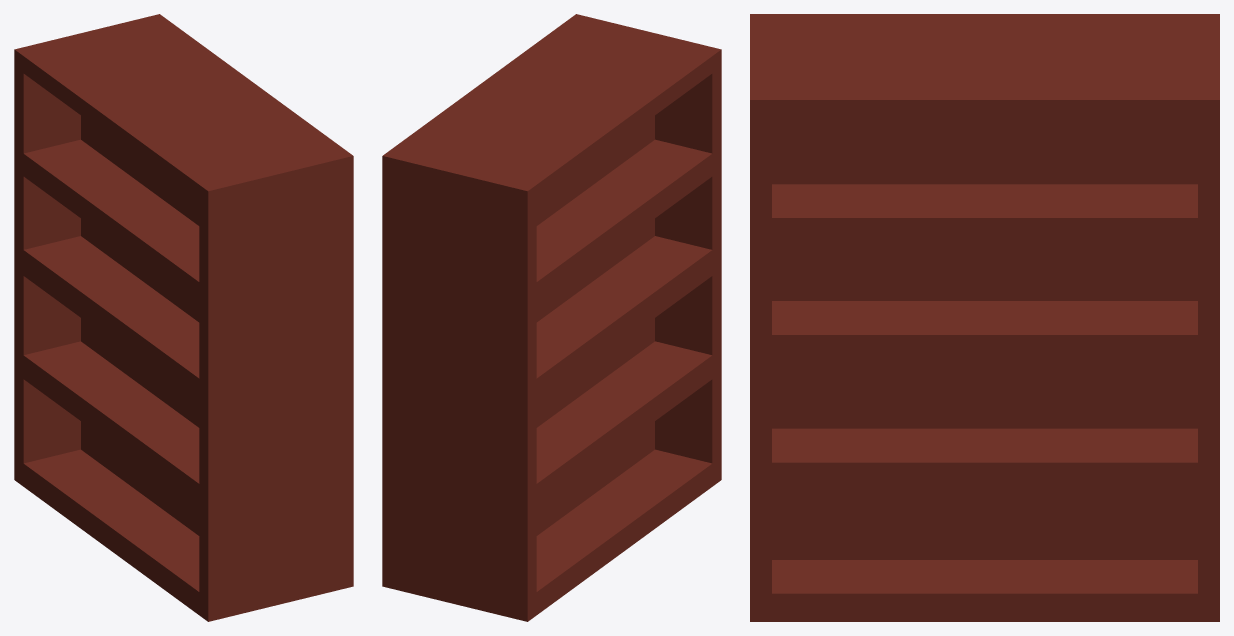
File: Shelf.fbx
3 renders of one model, left to right at view 1: azimuth 30°, elevation 25°; view 2: azimuth 150°, elevation 25°; view 3: azimuth 270°, elevation 25°, orthographic. The views are drawn at different scales.
Parts seen in each view (by area): view 1: Cube; view 2: Cube; view 3: Cube.
Boxes of the visible parts, bbox=[...] form: Cube: bbox=[14, 14, 353, 621]; Cube: bbox=[382, 14, 721, 621]; Cube: bbox=[750, 14, 1219, 621].
Bounding box in the file's own units: 327 × 928 × 757.
